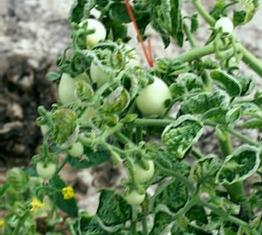Tomato leaf yellow virus: (157, 113, 207, 156), (213, 142, 260, 184), (154, 67, 203, 103), (50, 105, 78, 156), (177, 86, 227, 110), (190, 153, 226, 184)
